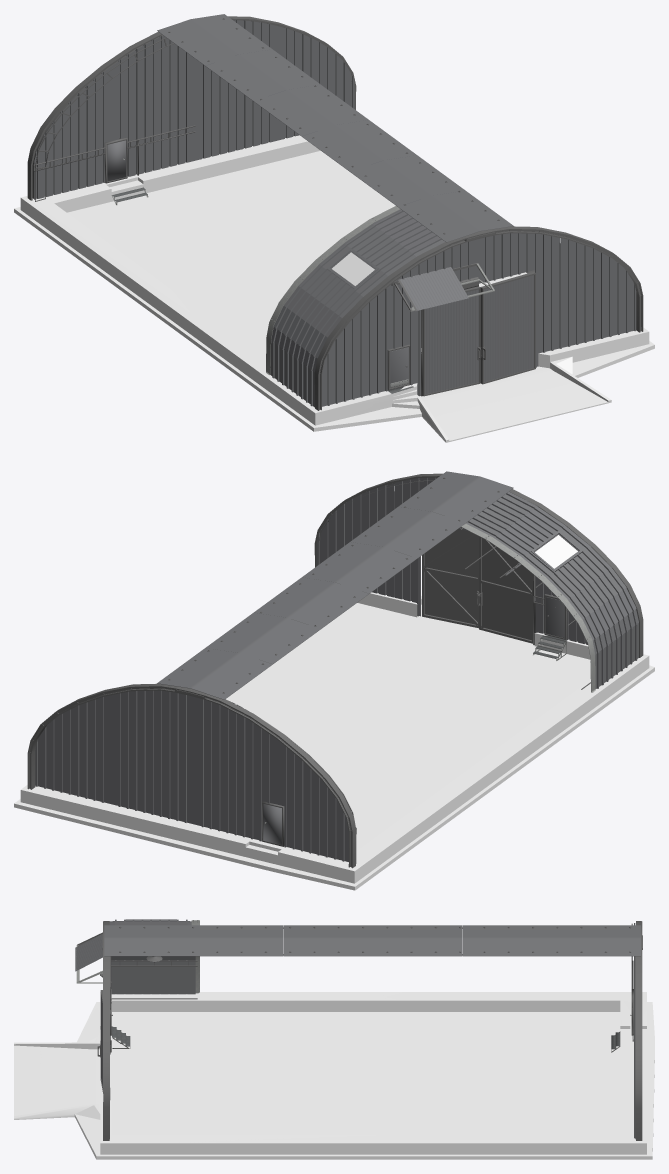
File: warehouse.glb
3 views of the same model, one above another, from view 1: azimuth 30°, elevation 25°; view 2: azimuth 150°, elevation 25°; view 3: azimuth 270°, elevation 25° (orthographic). The views are drawn at different scales.
Parts seen in each view (by area): view 1: foundation, facade back, facade, Roof base, Roof, border, gate door L, gate door R, visor roof, Roof mount, Windows, Door front (+3 smaller); view 2: foundation, facade back, Roof base, Roof, facade, border, gate door L, gate door R, Roof mount, Windows, Door front, Door back; view 3: foundation, Roof base, Roof, border, visor roof, MAIN CONSTRUCTION, facade back.
Part boxes in pixels (x1=…): foundation: x1=14, y1=135, x2=654, y2=442; facade back: x1=34, y1=19, x2=354, y2=199; facade: x1=322, y1=233, x2=636, y2=406; Roof base: x1=157, y1=14, x2=513, y2=242; Roof: x1=270, y1=209, x2=444, y2=407; border: x1=27, y1=16, x2=643, y2=410; gate door L: x1=480, y1=272, x2=535, y2=384; gate door R: x1=422, y1=286, x2=481, y2=396; visor roof: x1=398, y1=267, x2=468, y2=310; Roof mount: x1=266, y1=206, x2=400, y2=374; Windows: x1=327, y1=248, x2=378, y2=289; Door front: x1=104, y1=137, x2=127, y2=183; foundation: x1=14, y1=592, x2=654, y2=890; facade back: x1=35, y1=690, x2=348, y2=861; Roof base: x1=157, y1=471, x2=513, y2=699; Roof: x1=466, y1=492, x2=638, y2=688; facade: x1=316, y1=477, x2=587, y2=644; border: x1=27, y1=473, x2=643, y2=868; gate door L: x1=422, y1=529, x2=478, y2=628; gate door R: x1=477, y1=536, x2=534, y2=643; Roof mount: x1=461, y1=523, x2=595, y2=692; Windows: x1=530, y1=530, x2=582, y2=571; Door front: x1=261, y1=801, x2=284, y2=846; Door back: x1=544, y1=594, x2=567, y2=639; foundation: x1=14, y1=992, x2=654, y2=1159; Roof base: x1=104, y1=925, x2=640, y2=956; Roof: x1=109, y1=919, x2=195, y2=994; border: x1=102, y1=921, x2=642, y2=1140; visor roof: x1=75, y1=933, x2=102, y2=971; MAIN CONSTRUCTION: x1=110, y1=956, x2=197, y2=999; facade back: x1=634, y1=923, x2=635, y2=1138.
Size of the model in its own units: 21.28 by 9.31 by 37.34.
9 materials, 3 textured.
